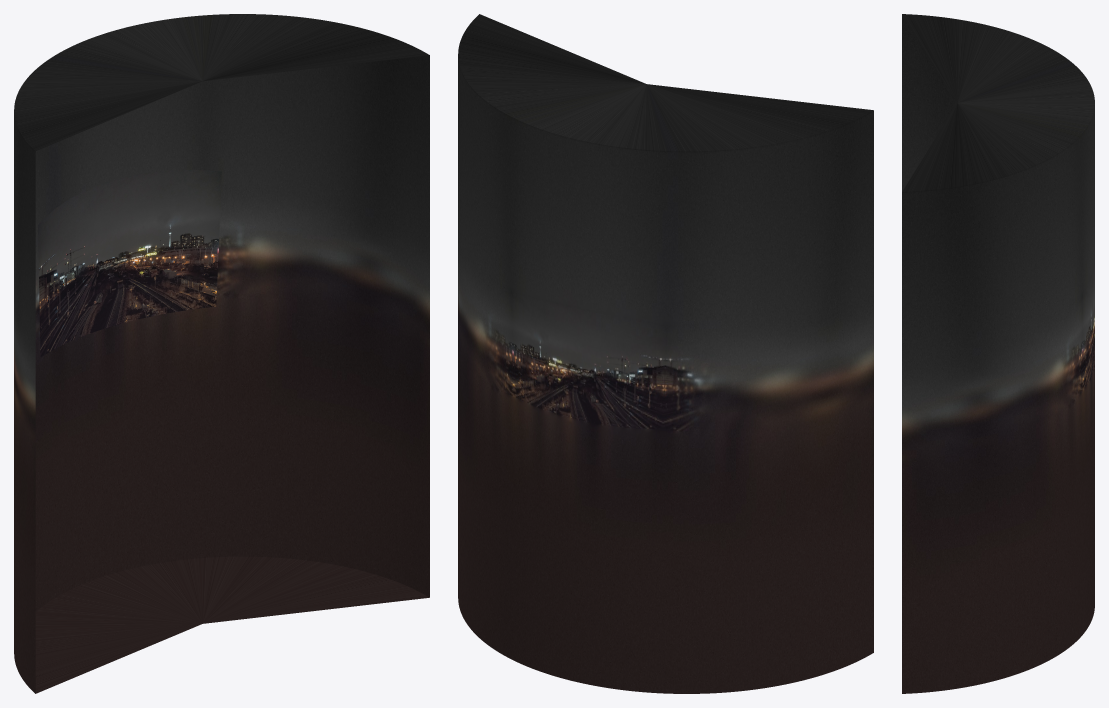
The model's file is sakina-view-r9.glb.
The picture shows the model from 3 angles, left to right: view 1: azimuth 30°, elevation 25°; view 2: azimuth 150°, elevation 25°; view 3: azimuth 270°, elevation 25°; orthographic projection. The views are drawn at different scales.
Parts seen in each view (by area): view 1: WindowView_Pano, WindowView_Photo; view 2: WindowView_Pano; view 3: WindowView_Pano.
Part boxes in pixels (<box>): WindowView_Pano: <box>14,14,429,693</box>; WindowView_Photo: <box>38,170,221,357</box>; WindowView_Pano: <box>458,14,873,693</box>; WindowView_Pano: <box>902,14,1094,693</box>.
Size of the model in its own units: 159 by 210 by 73.03.
2 materials, 2 textured.
